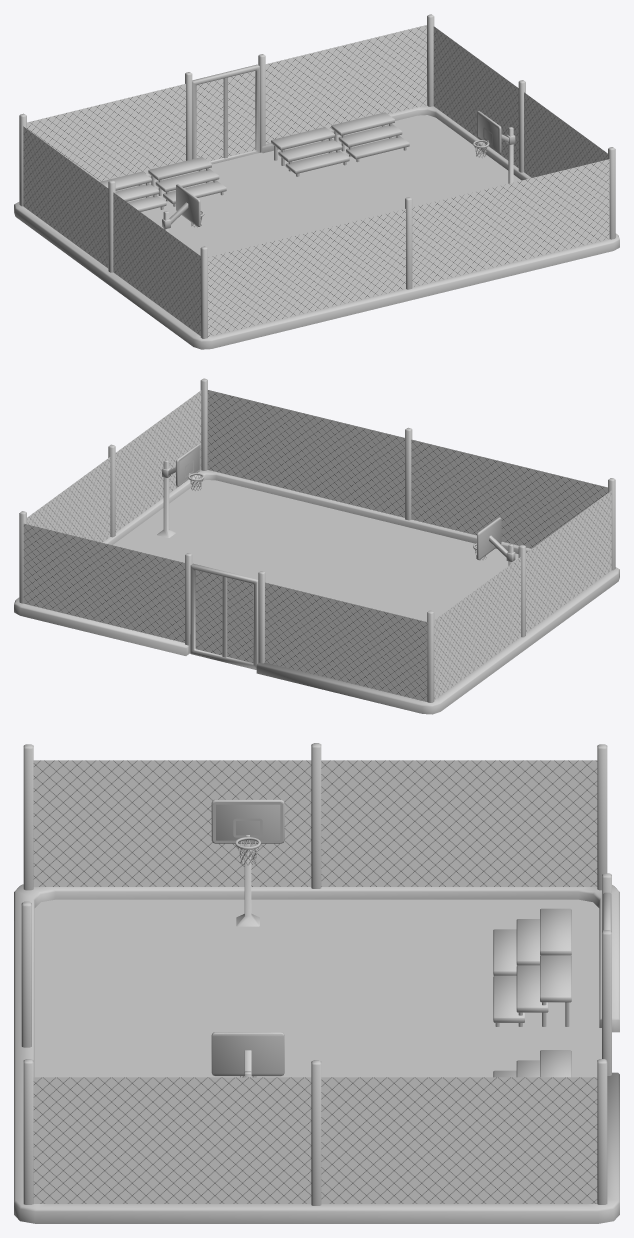
Rendered from basket_court.fbx.
3 renders of one model, top to bottom at view 1: azimuth 30°, elevation 25°; view 2: azimuth 150°, elevation 25°; view 3: azimuth 270°, elevation 25°, orthographic. The views are drawn at different scales.
Visible parts, largest first — view 1: basket_court_fence, basket_court; view 2: basket_court_fence, basket_court; view 3: basket_court, basket_court_fence.
Part boxes in pixels (x1,y1,x2,y2): basket_court_fence: [23, 25, 609, 336]; basket_court: [14, 14, 619, 349]; basket_court_fence: [23, 390, 611, 701]; basket_court: [14, 378, 619, 714]; basket_court: [14, 743, 619, 1223]; basket_court_fence: [33, 760, 597, 1203].
Size of the model in its own units: 14.23 by 3.16 by 11.09.
